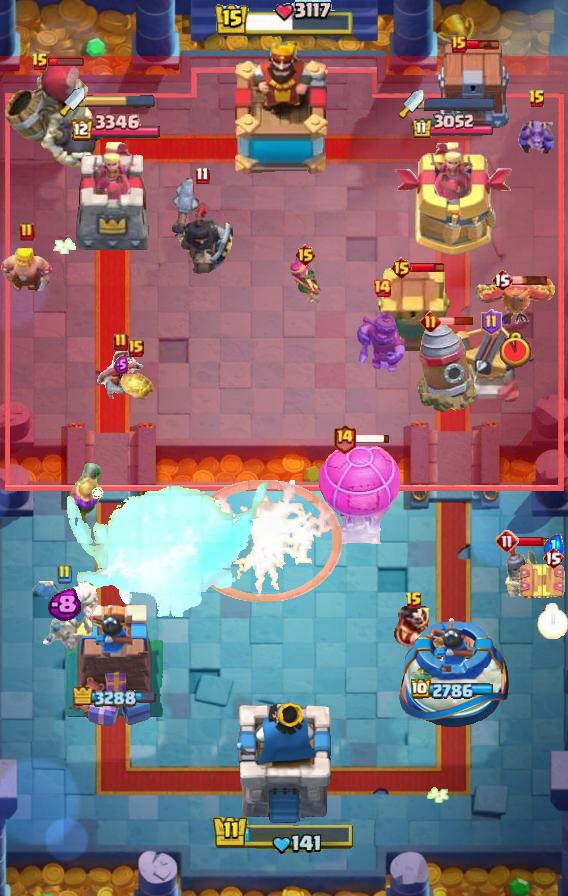archer: (1, 247, 53, 291)
bar: (395, 142, 514, 256), (73, 140, 155, 256)
barbarian-evolution: (185, 480, 344, 602)
bomb: (377, 267, 455, 355), (434, 44, 512, 130)
bomb-tower: (63, 463, 103, 527)
cannon: (287, 257, 323, 307)
cannon-cart: (315, 439, 403, 547)
clock: (212, 814, 356, 856), (213, 0, 355, 40)
earthquake: (356, 302, 408, 378)
electro-giant: (0, 61, 114, 169)
electro-spirit: (47, 588, 81, 622), (543, 533, 564, 559), (115, 355, 130, 373)
elixir: (501, 331, 532, 369), (537, 603, 567, 639)
emote: (410, 261, 446, 274), (512, 274, 549, 286), (465, 38, 501, 50), (517, 535, 552, 547), (47, 56, 84, 67), (354, 432, 391, 443), (438, 316, 474, 326)
goblin-brawler: (518, 561, 568, 601)
golden-knight: (474, 278, 556, 328)
ice-spirit-evolution: (116, 360, 156, 404)
inferno-dragon: (169, 175, 235, 281)
king-tower: (228, 41, 340, 181), (235, 703, 333, 826)
king-tower-bar: (424, 97, 496, 111), (85, 95, 155, 109)
lava-pup: (447, 324, 535, 406)
lumberjack: (393, 603, 435, 651)
magic-archer: (417, 319, 477, 413)
mega-knight: (45, 469, 267, 643)
mini-pekka: (27, 578, 101, 654)
princess: (503, 540, 541, 598)
queen-tower: (61, 599, 166, 731), (395, 614, 514, 730)
royal-delivery: (517, 114, 557, 158)
selected: (68, 113, 160, 142), (411, 112, 495, 140), (412, 679, 497, 701), (72, 687, 155, 709)
skeleton-dragon: (95, 344, 147, 402)
text: (332, 422, 357, 453), (495, 529, 519, 553), (294, 243, 317, 267), (391, 256, 414, 280), (481, 309, 502, 335), (491, 268, 513, 292), (542, 546, 564, 570), (419, 311, 440, 333), (372, 278, 392, 298), (31, 52, 49, 72), (528, 89, 546, 109), (405, 591, 423, 611), (19, 222, 35, 242), (113, 332, 129, 352), (56, 564, 72, 584), (451, 35, 467, 53), (128, 339, 144, 357), (195, 167, 209, 186)
